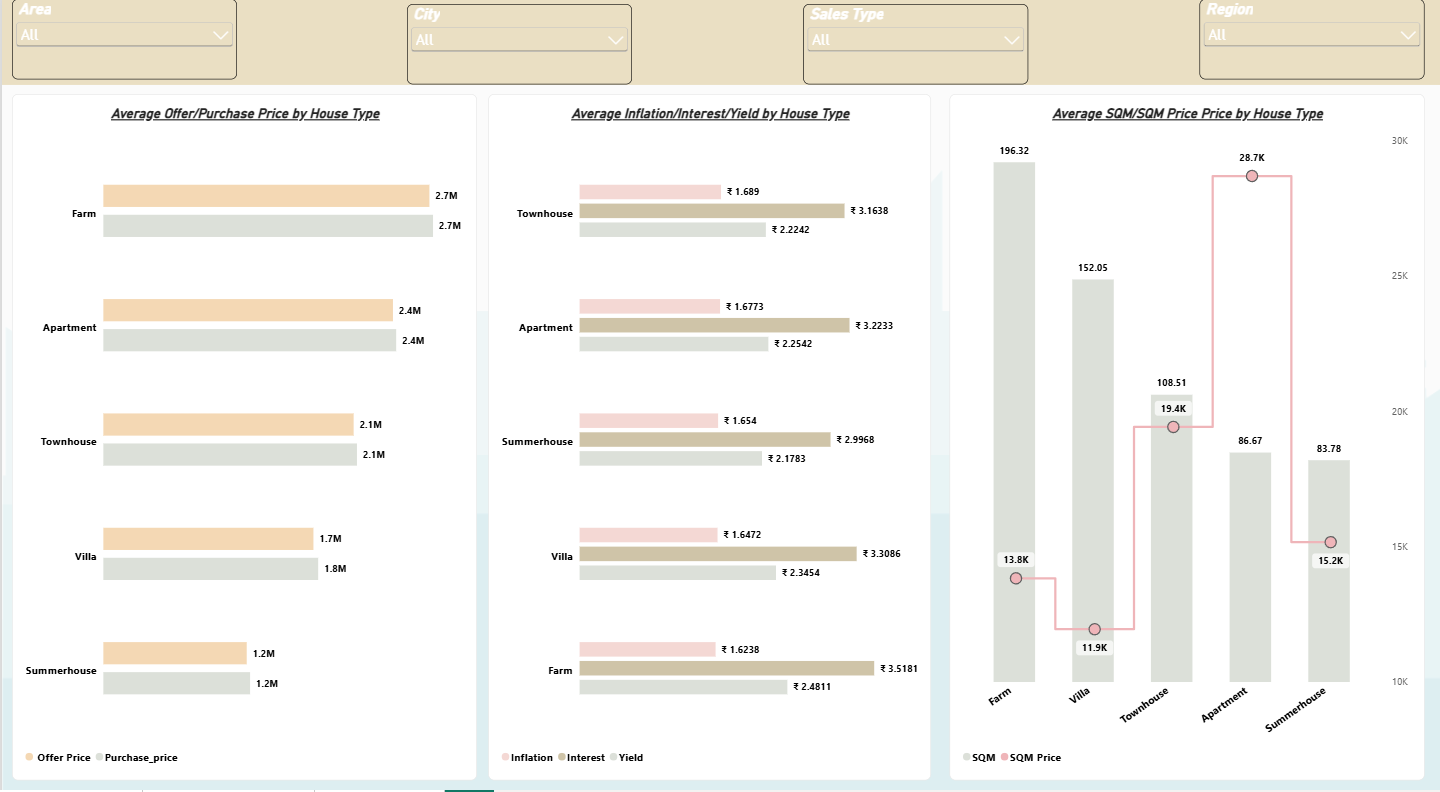

The page's visual inventory and layout, read from the dashboard file:
{"tool":"powerbi","page":{"name":"House Type ","canvas":[1920,1080],"ordinal":2},"visuals":[{"type":"shape","box":[0,0,1920.1,121.2],"z":0},{"type":"clusteredBarChart","title":"Average Offer/Purchase Price by House Type ","fields":{"Category":["Housing.house_type"],"Y":["Avg(Housing.Offer Price)","Avg(Housing.purchase_price)"]},"box":[13,133.3,620.4,914.8],"z":1},{"type":"clusteredBarChart","title":"Average Inflation/Interest/Yield by House Type ","fields":{"Category":["Housing.house_type"],"Y":["Avg(Housing.dk_infl_rate)","Avg(Housing.nom_interest_rate)","Avg(Housing.Yield_on_mortgage )"]},"box":[648.1,133.3,590.7,914.8],"z":2},{"type":"lineStackedColumnComboChart","title":"Average SQM/SQM Price Price by House Type ","fields":{"Category":["Housing.house_type"],"Y":["Avg(Housing.sqm)"],"Y2":["Avg(Housing.sqm_price)"]},"box":[1263,133.3,633.3,914.8],"z":3},{"type":"slicer","fields":{"Values":["Housing.area"]},"box":[13,7.4,300,107.4],"z":4},{"type":"slicer","fields":{"Values":["Housing.city"]},"box":[540.7,13,300,107.4],"z":5},{"type":"slicer","fields":{"Values":["Housing.sales_type"]},"box":[1068.5,13,300,107.4],"z":6},{"type":"slicer","fields":{"Values":["Housing.region"]},"box":[1596.3,7.4,300,107.4],"z":7}]}

Visuals, with their boxes in screenshot pixels (x1, y1, x2, y2), scaled from the page's 1920x1080 canvas onto the 1440x792 screenshot:
shape: x1=0 y1=0 x2=1439 y2=89
"Average Offer/Purchase Price by House Type " clusteredBarChart: x1=10 y1=98 x2=475 y2=769
"Average Inflation/Interest/Yield by House Type " clusteredBarChart: x1=486 y1=98 x2=929 y2=769
"Average SQM/SQM Price Price by House Type " lineStackedColumnComboChart: x1=947 y1=98 x2=1422 y2=769
slicer - Housing.area: x1=10 y1=5 x2=235 y2=84
slicer - Housing.city: x1=406 y1=10 x2=631 y2=88
slicer - Housing.sales_type: x1=801 y1=10 x2=1026 y2=88
slicer - Housing.region: x1=1197 y1=5 x2=1422 y2=84
